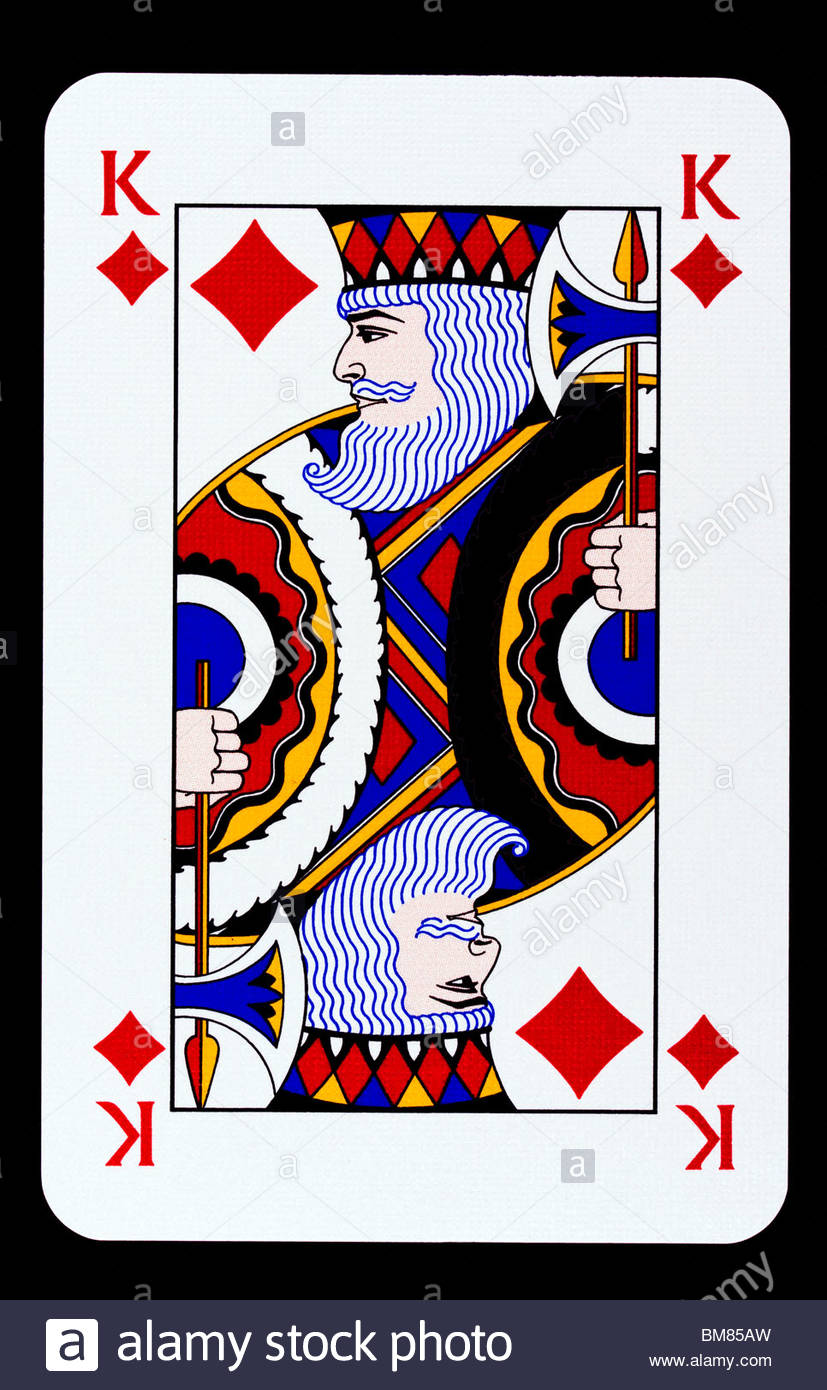king of diamonds: (47, 64, 791, 1245)
